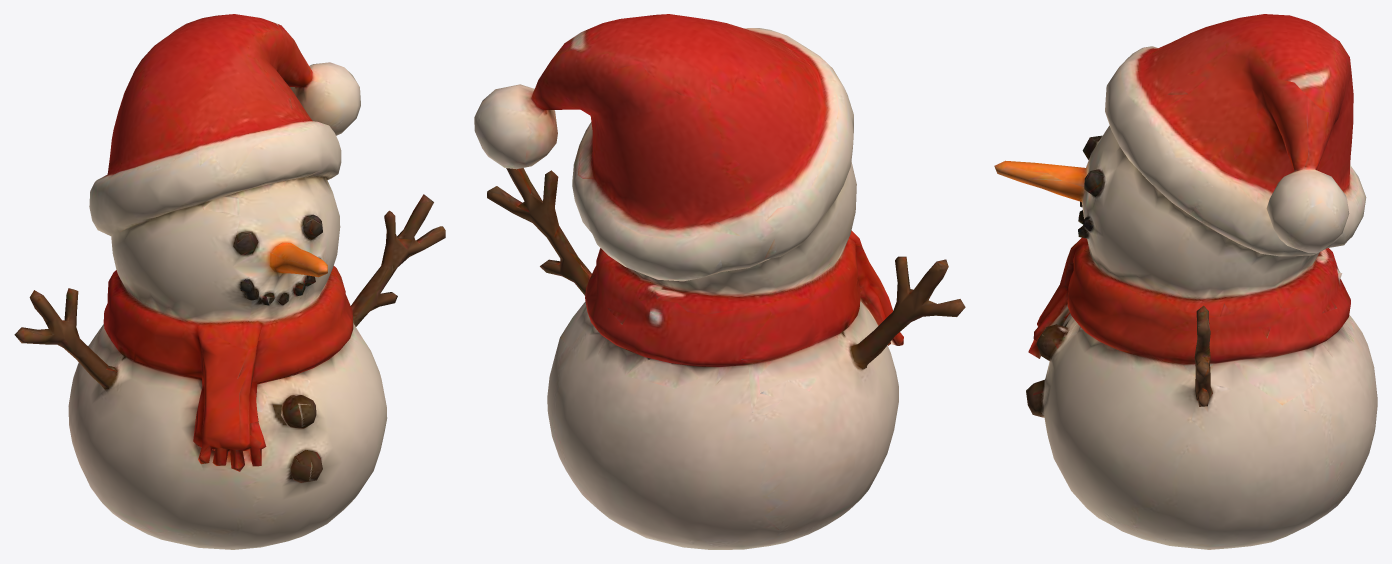
The picture shows the model from 3 angles, left to right: view 1: azimuth 30°, elevation 25°; view 2: azimuth 150°, elevation 25°; view 3: azimuth 270°, elevation 25°; orthographic projection. The views are drawn at different scales.
Visible parts, largest first — view 1: Mesh1.0; view 2: Mesh1.0; view 3: Mesh1.0.
Boxes of the visible parts, box(x1,y1,x2,y2) form: Mesh1.0: box(14, 14, 445, 549); Mesh1.0: box(474, 14, 965, 549); Mesh1.0: box(994, 14, 1377, 549).
Bounding box in the file's own units: 1.92 × 1.91 × 1.37.
1 material, 1 textured.
